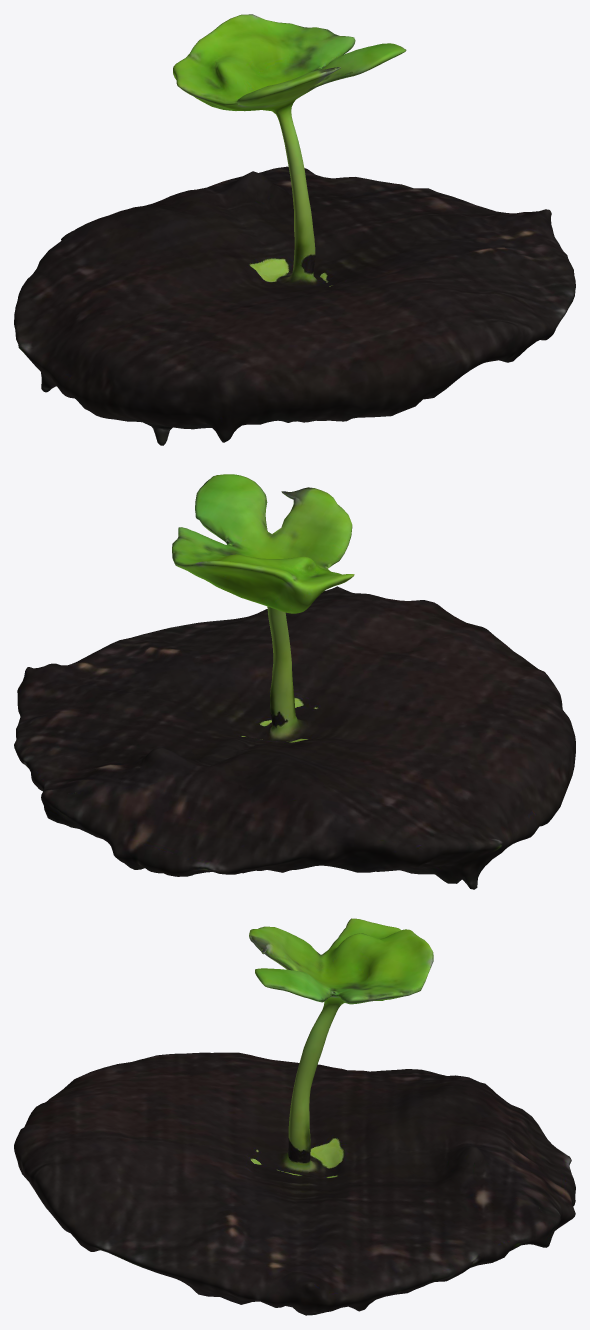
The picture shows the model from 3 angles, top to bottom: view 1: azimuth 30°, elevation 25°; view 2: azimuth 150°, elevation 25°; view 3: azimuth 270°, elevation 25°; orthographic projection.
Visible parts, largest first — view 1: mesh; view 2: mesh; view 3: mesh.
Part boxes in pixels (box(x1,y1,x2,y2)): mesh: box(14, 14, 575, 445); mesh: box(14, 474, 575, 889); mesh: box(14, 918, 575, 1315).
Bounding box in the file's own units: 0.9915 × 0.5837 × 0.9528.
1 material, 1 textured.
